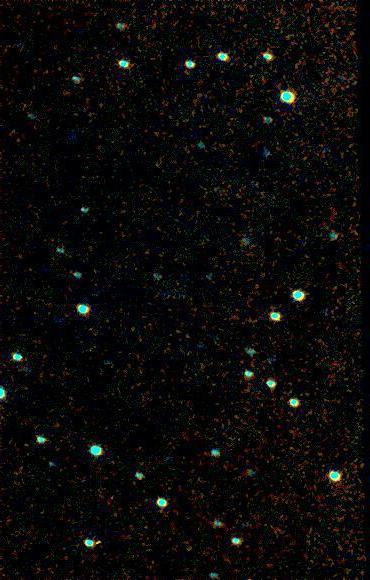star: (81, 527, 111, 557)
